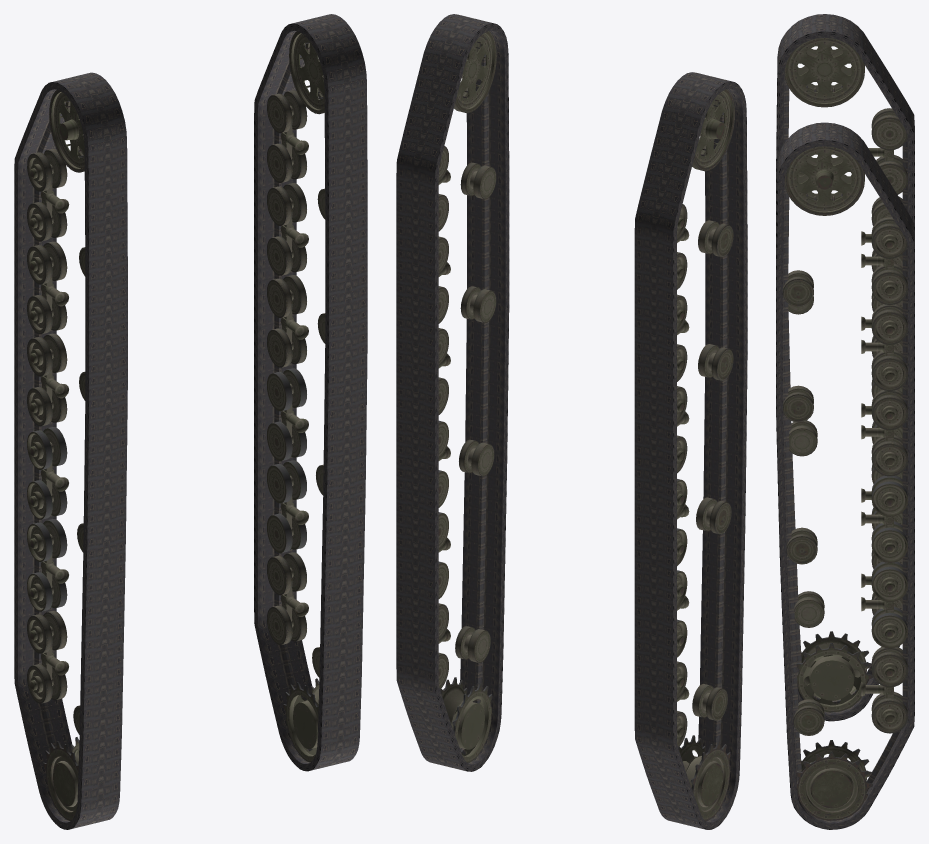
File: Chassis.glb
3 renders of one model, left to right at view 1: azimuth 30°, elevation 25°; view 2: azimuth 150°, elevation 25°; view 3: azimuth 270°, elevation 25°, orthographic. The views are drawn at different scales.
Visible parts, largest first — view 1: set_0_group_0, set_1_group_0, set_5_group_0, set_3_group_0; view 2: set_0_group_0, set_1_group_0, set_5_group_0, set_3_group_0; view 3: set_5_group_0, set_1_group_0, set_3_group_0, set_0_group_0.
Boxes of the visible parts, bbox=[...] form: set_0_group_0: bbox=[14, 72, 127, 829]; set_1_group_0: bbox=[254, 14, 367, 771]; set_5_group_0: bbox=[267, 31, 325, 762]; set_3_group_0: bbox=[27, 90, 85, 820]; set_0_group_0: bbox=[634, 72, 747, 829]; set_1_group_0: bbox=[396, 14, 509, 771]; set_5_group_0: bbox=[438, 31, 496, 762]; set_3_group_0: bbox=[677, 89, 734, 820]; set_5_group_0: bbox=[783, 146, 907, 820]; set_1_group_0: bbox=[776, 122, 914, 829]; set_3_group_0: bbox=[784, 37, 907, 712]; set_0_group_0: bbox=[776, 14, 914, 721].
Bounding box in the file's own units: 2.88 × 7.34 × 1.34.
Materials: 6 (6 with a texture image).
